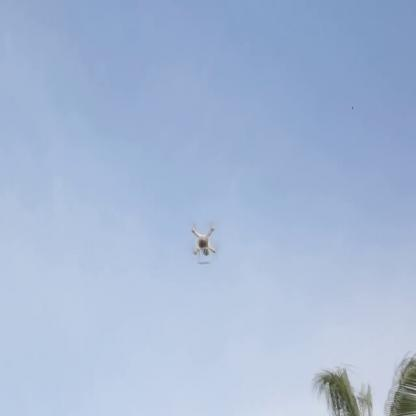drone: (190, 218, 220, 262)
